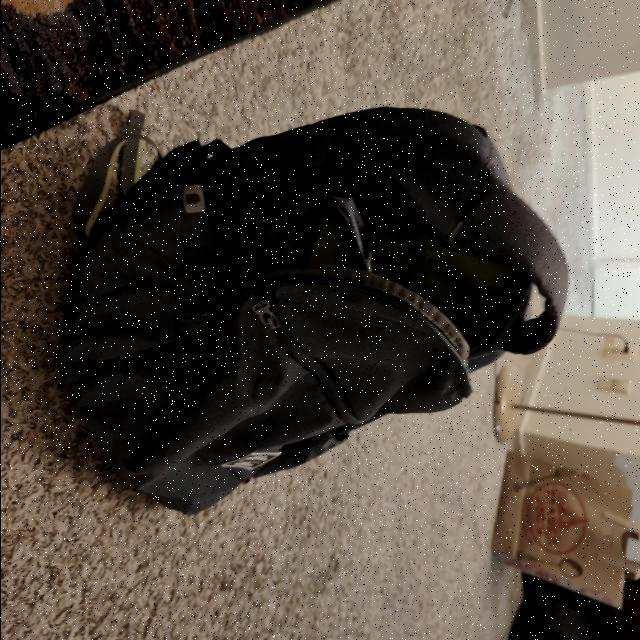bag: (79, 110, 562, 516)
